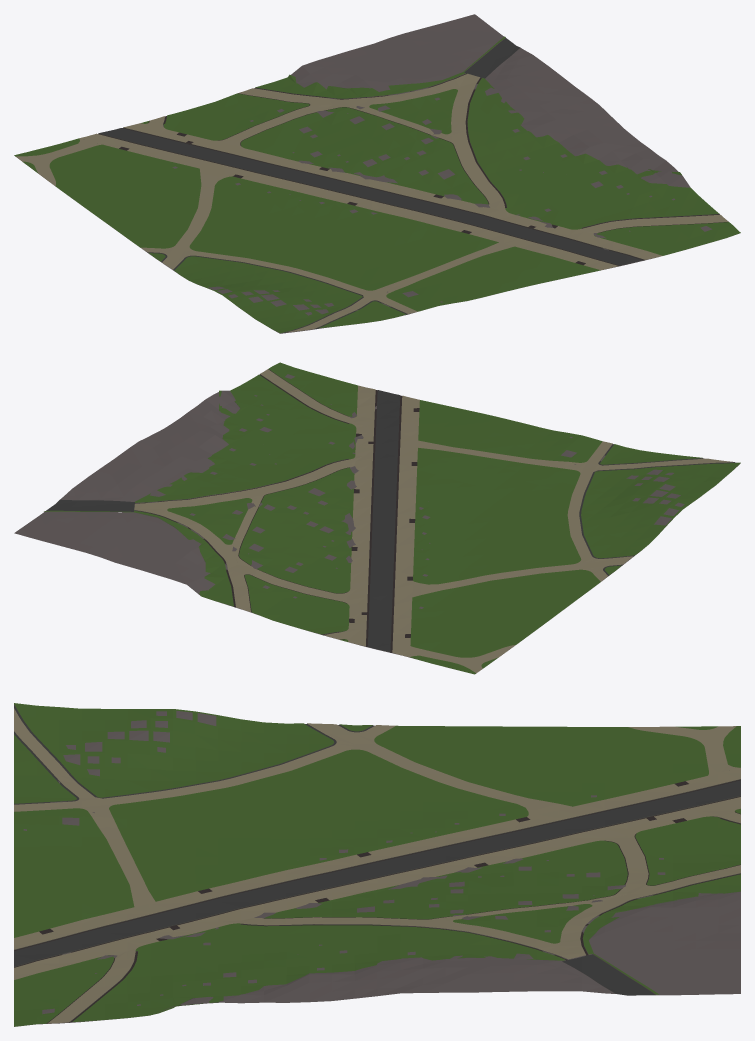
The picture shows the model from 3 angles, top to bottom: view 1: azimuth 30°, elevation 25°; view 2: azimuth 150°, elevation 25°; view 3: azimuth 270°, elevation 25°; orthographic projection. The views are drawn at different scales.
Parts seen in each view (by area): view 1: c_p02_p11; view 2: c_p02_p11; view 3: c_p02_p11.
Boxes of the visible parts, bbox=[...] form: c_p02_p11: bbox=[14, 14, 740, 333]; c_p02_p11: bbox=[14, 362, 740, 674]; c_p02_p11: bbox=[14, 703, 740, 1026].
Size of the model in its own units: 128 by 8.36 by 128.
